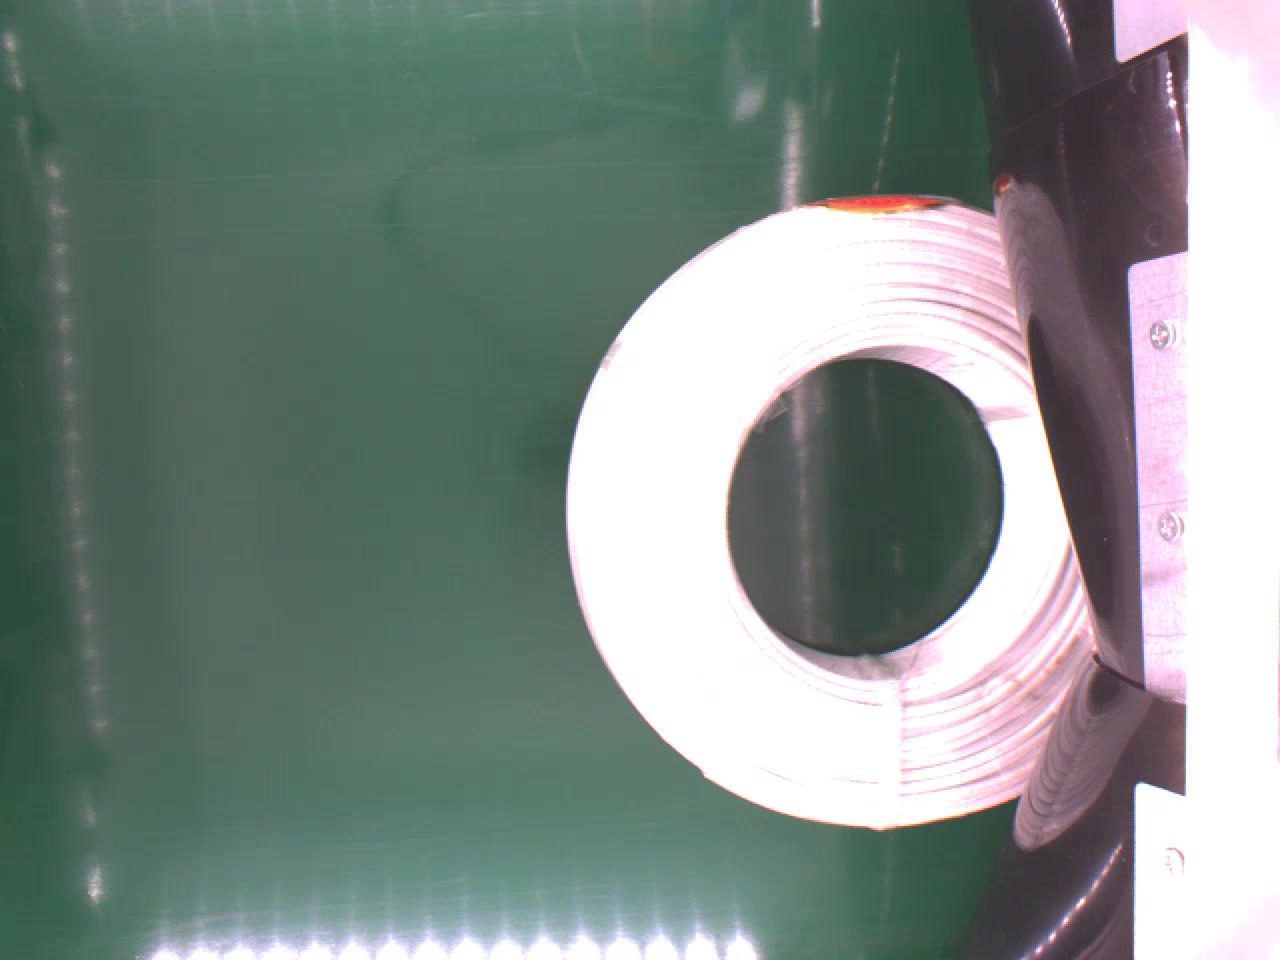white: (560, 188, 1106, 837)
